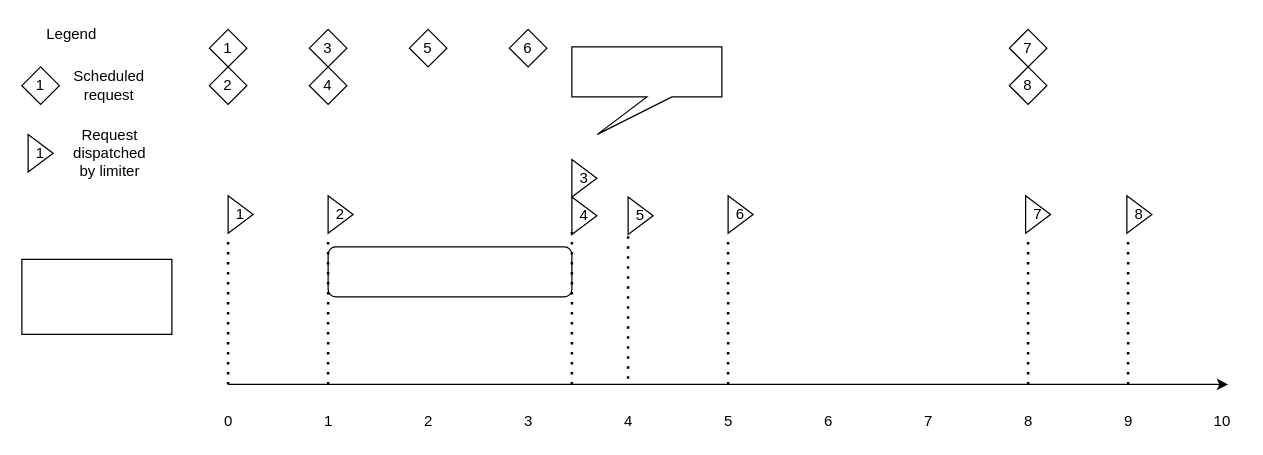
Some shapes in this 1263 by 455 pixel diagram are drawn without their labels. Each missing label, with the centre of its shape:
CPU - Heavy Task / Delay: point 449,271
Limiter(rate=1): point 96,296
Up to max_burst (5 by default): point 646,90
